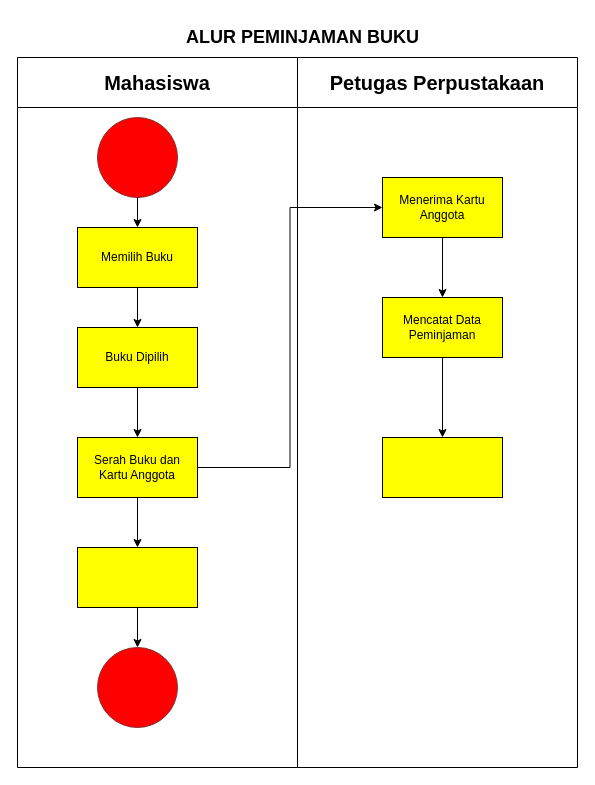
Image size: 595x785. Some labels were removed from this diagram. Each missing label, with the centre of its shape:
Disimpan di Database: the point at 442,467
Mendapatkan Buku: the point at 137,577
MULAI: the point at 137,157
STOP: the point at 137,687
